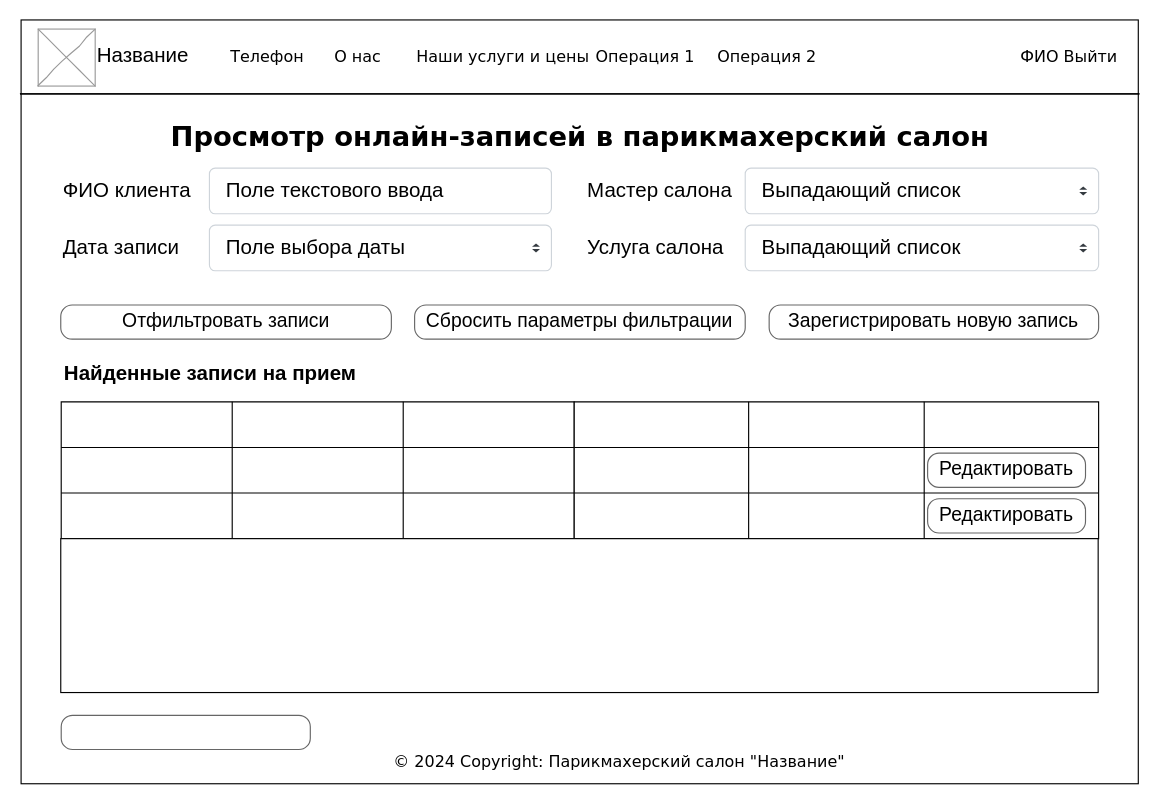
The diagram is 1161 pixels wide and 804 high, and some of its shapes have lost their labels. Here are the shapes that lost their labels. From the top down, the box of each, then its label:
(60, 538, 1098, 693): Итоговая статистика для отчетности:
(60, 714, 310, 750): Экспортировать отчет
